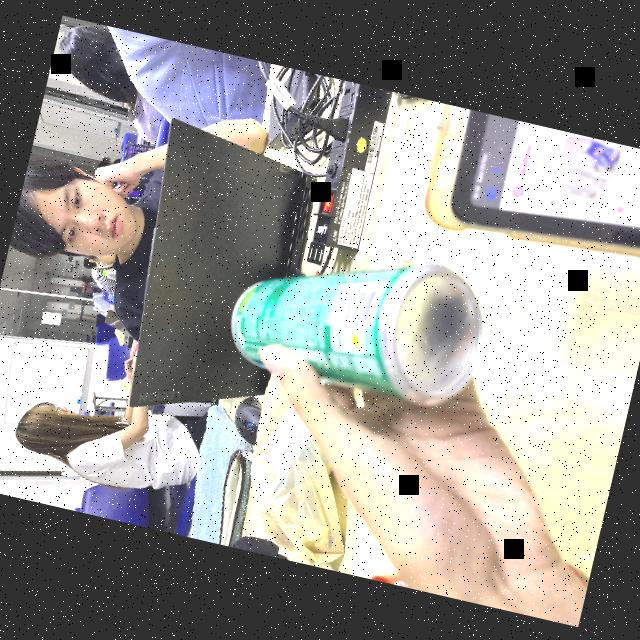can: (220, 220, 508, 420)
